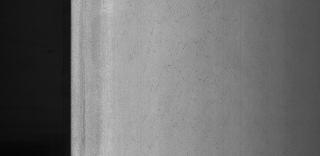silk spot: (132, 10, 220, 118)
